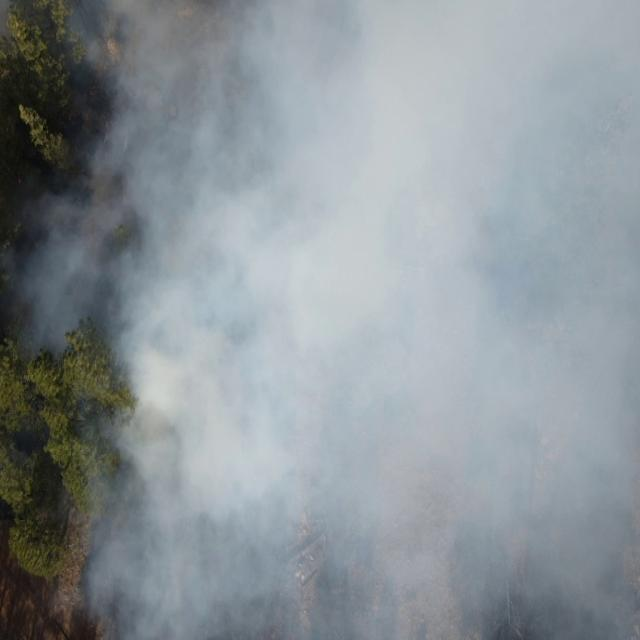smoke: (0, 2, 634, 640)
